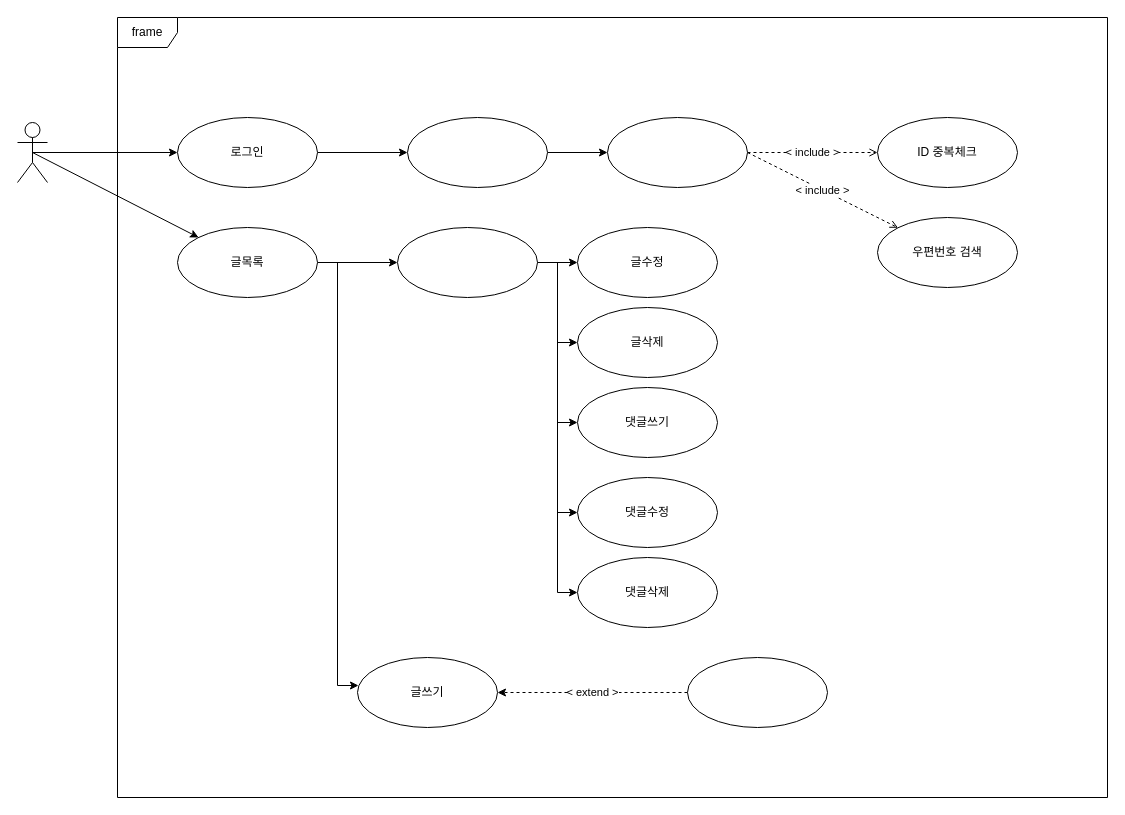
Image size: 1125x815. Some labels were removed from this diagram. Each missing label, with the centre of its shape:
"Actor" goes at [32,152].
"글보기" goes at [467,262].
"약관" goes at [477,152].
"파일 업로드" goes at [757,692].
"회원가입" goes at [677,152].
